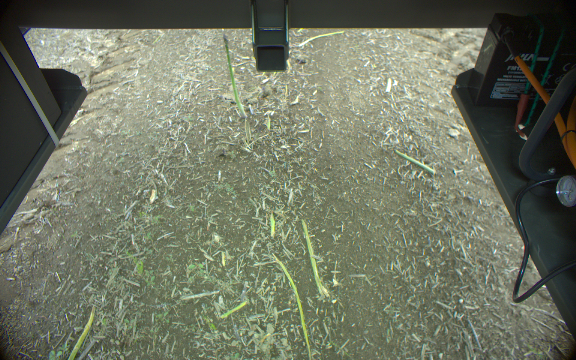aspa: (269, 251, 312, 355), (298, 218, 328, 301), (221, 33, 245, 118), (64, 303, 97, 360), (391, 148, 433, 174), (298, 30, 344, 47), (220, 299, 248, 319), (268, 211, 276, 238)
